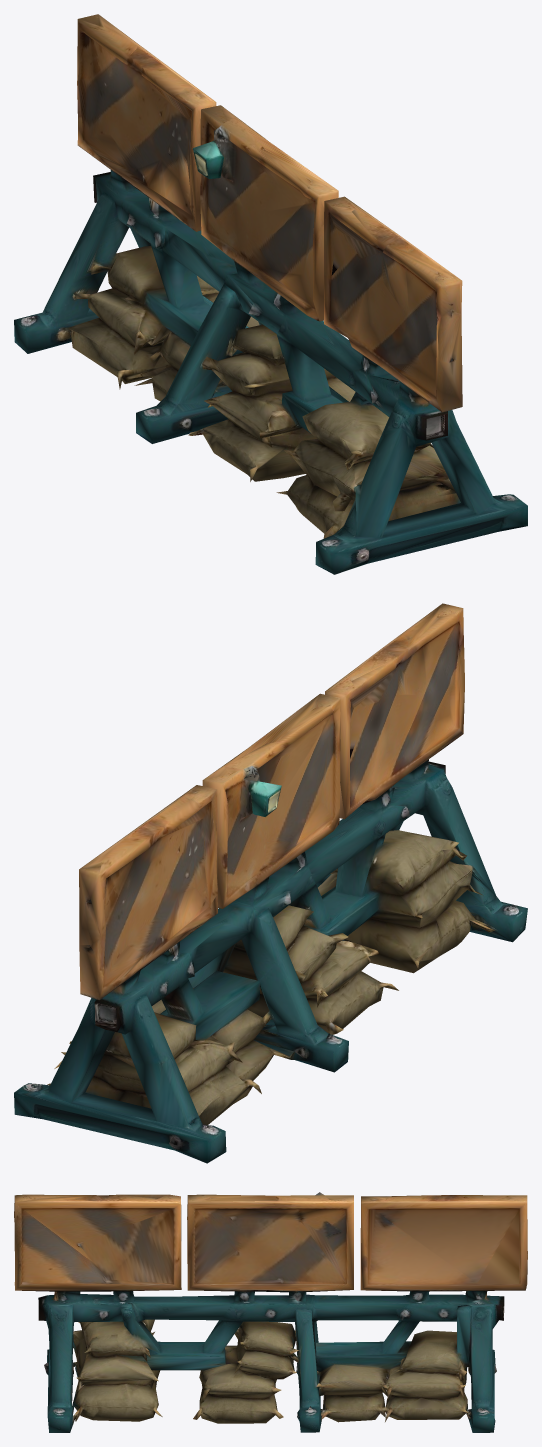
Rendered from mall_barricade_3000.glb.
3 renders of one model, top to bottom at view 1: azimuth 30°, elevation 25°; view 2: azimuth 150°, elevation 25°; view 3: azimuth 270°, elevation 25°, orthographic. The views are drawn at different scales.
Visible parts, largest first — view 1: tripo_node_d570e6ca-111a-4475-903a-b8a9790452c8; view 2: tripo_node_d570e6ca-111a-4475-903a-b8a9790452c8; view 3: tripo_node_d570e6ca-111a-4475-903a-b8a9790452c8.
Part boxes in pixels (x1,y1,x2,y2): tripo_node_d570e6ca-111a-4475-903a-b8a9790452c8: (14,14,527,574); tripo_node_d570e6ca-111a-4475-903a-b8a9790452c8: (14,603,527,1163); tripo_node_d570e6ca-111a-4475-903a-b8a9790452c8: (14,1192,527,1432).
Bounding box in the file's own units: 0.3087 × 0.4317 × 0.98.
1 material, 1 textured.
